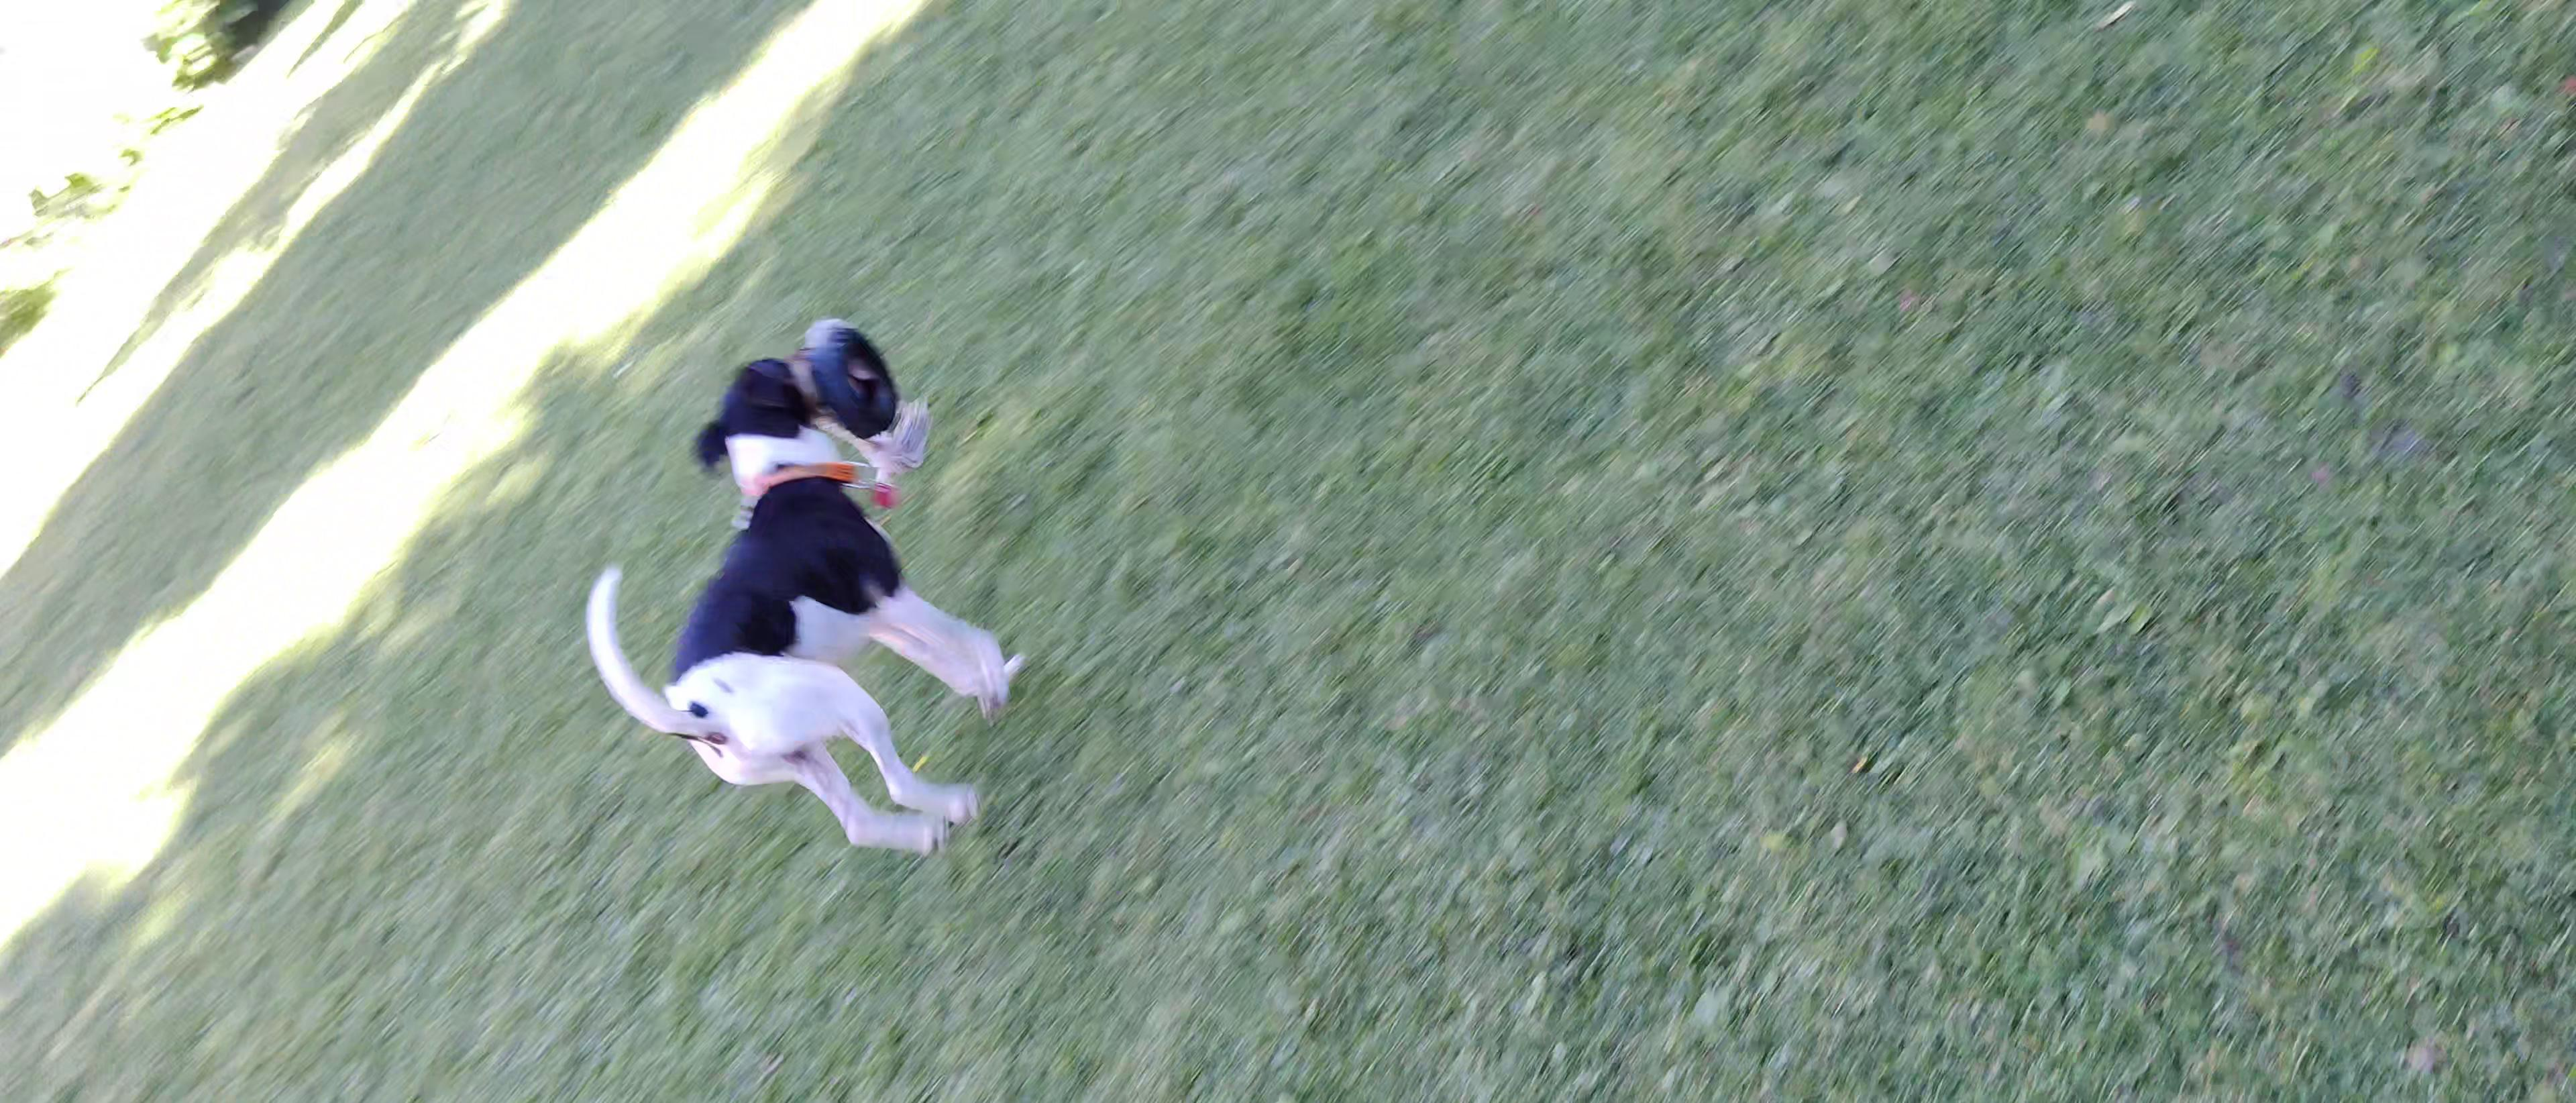Dog: (568, 332, 1022, 870)
